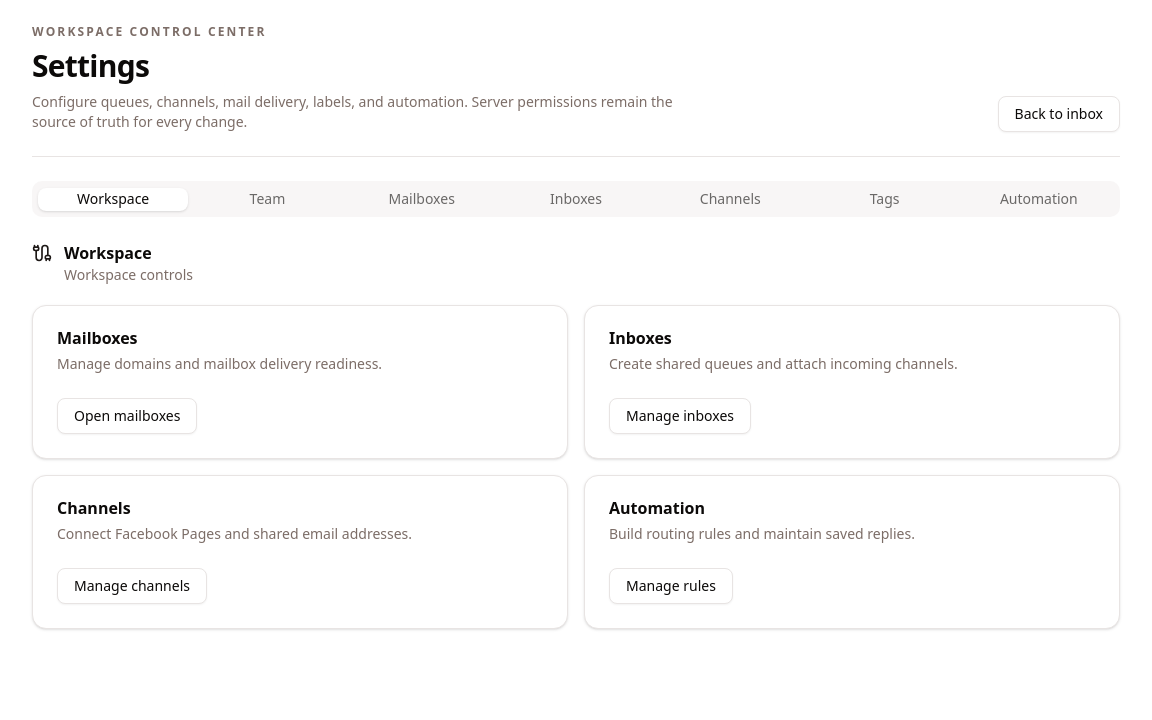
Test case: settings UI contracts › shows the API error in an alert
The image size is (1152, 720).
Step 1. Click the tab "Tags" → (885, 199), box [809,188,960,210]
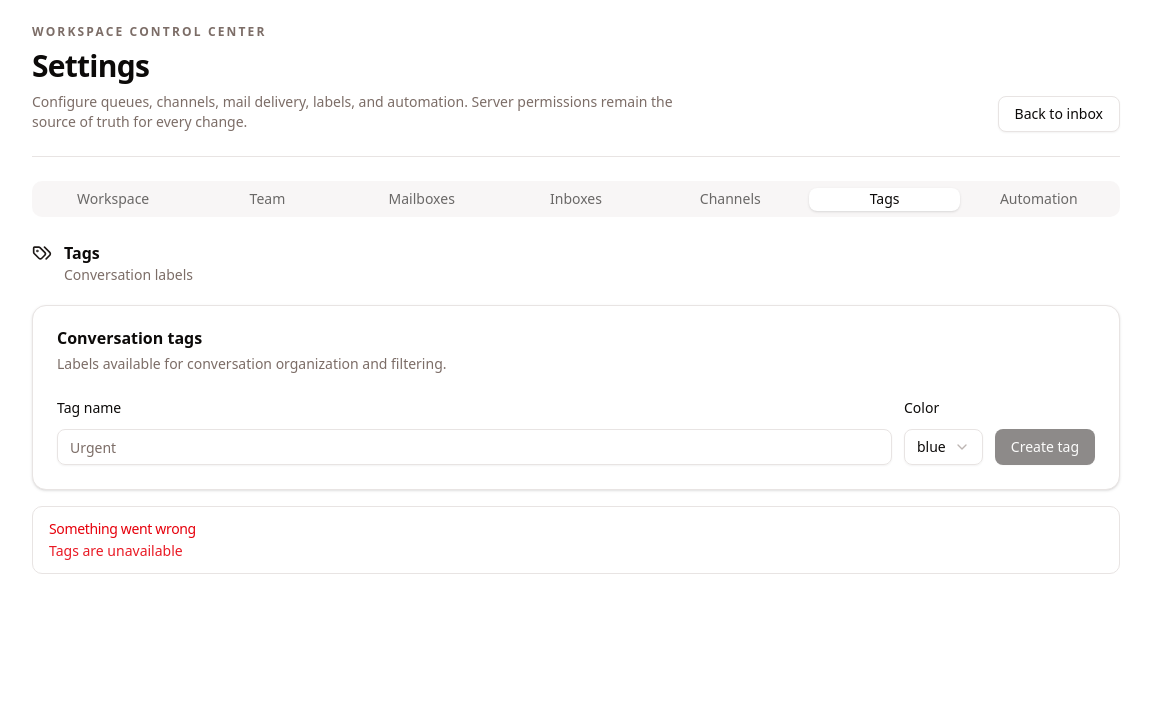
Now the message shows "Tags are unavailable", box [49,541,183,560]
